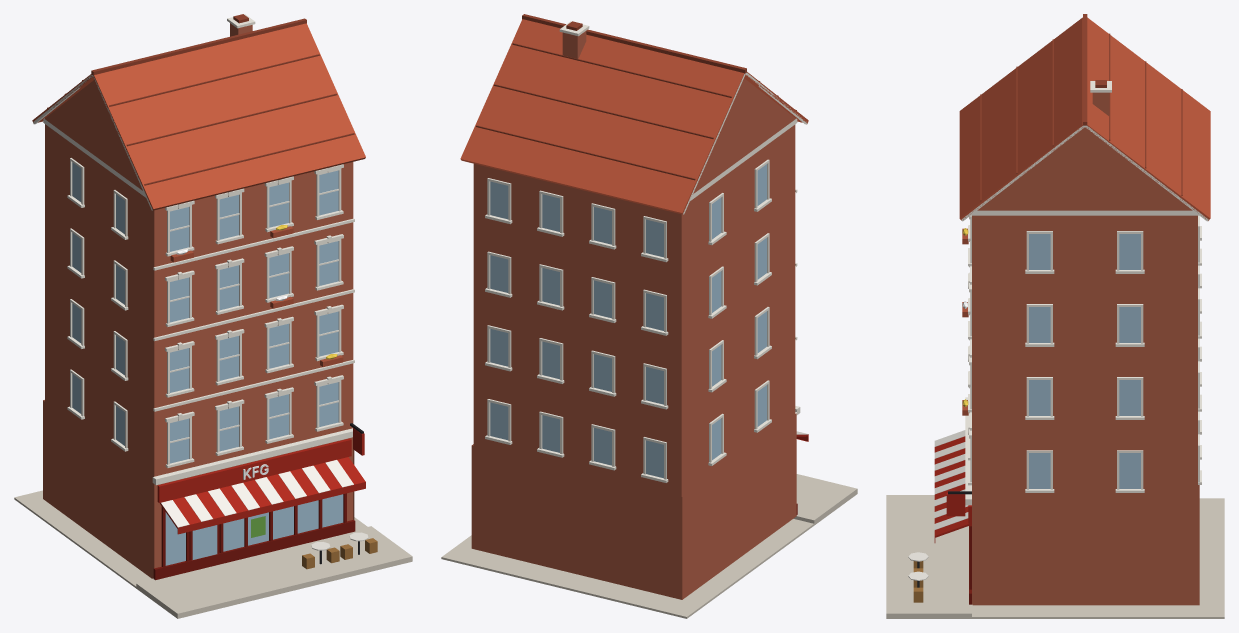
File: Dukkan_kfg_Hafif.fbx
The picture shows the model from 3 angles, left to right: view 1: azimuth 30°, elevation 25°; view 2: azimuth 150°, elevation 25°; view 3: azimuth 270°, elevation 25°; orthographic projection. The views are drawn at different scales.
Parts seen in each view (by area): view 1: Dukkan_kfg_Hafif; view 2: Dukkan_kfg_Hafif; view 3: Dukkan_kfg_Hafif.
Part boxes in pixels (x1,y1,x2,y2): Dukkan_kfg_Hafif: (14, 14, 412, 618); Dukkan_kfg_Hafif: (441, 14, 857, 618); Dukkan_kfg_Hafif: (886, 14, 1224, 618).
Size of the model in its own units: 10.46 by 20.62 by 12.6.
